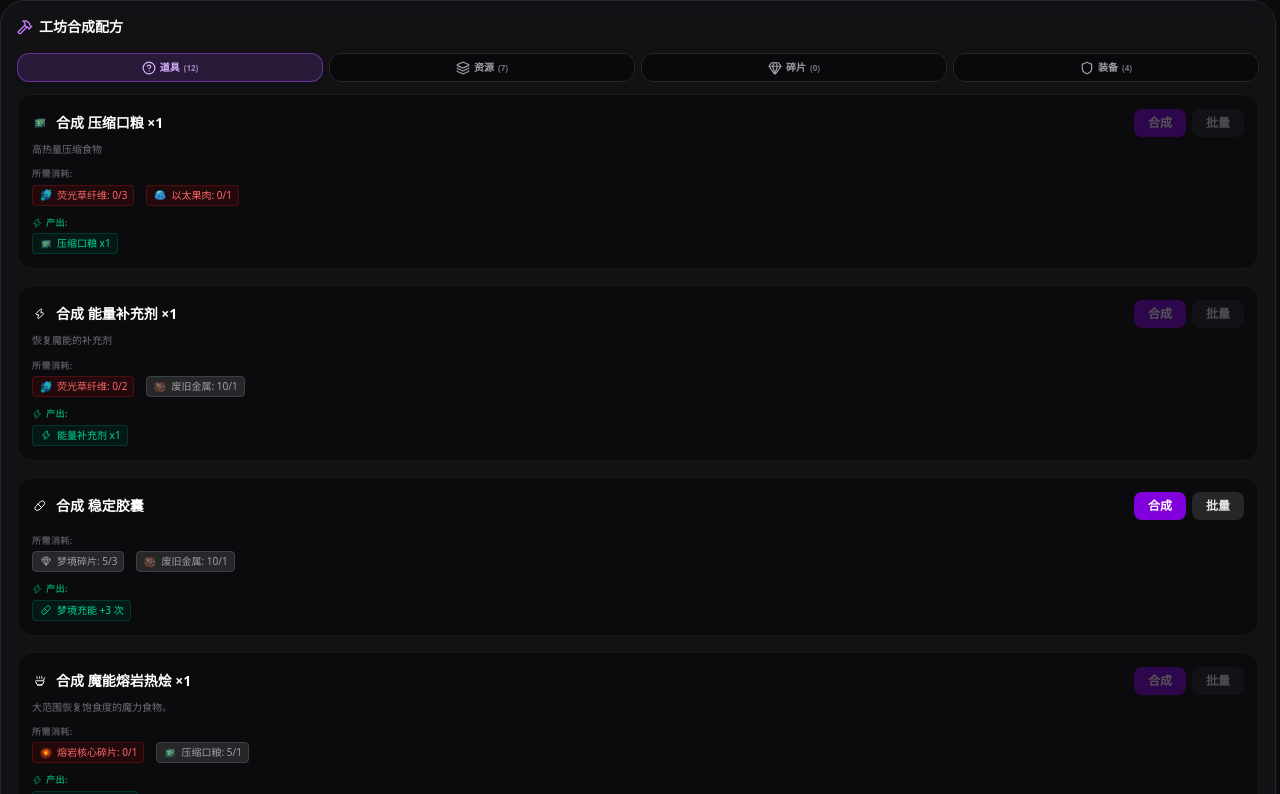
it: WorkshopTab Component › renders 4 category tabs and shows empty state for the shard category (ticket 03)
Expected: the button "道具 (12)" is shown, [17, 53, 323, 82]
Expected: the button "资源 (7)" is shown, [329, 53, 635, 82]
// 碎片分类在工坊无产出配方 → 空态
Click the button "碎片 (0)" at (794, 68), box [641, 53, 947, 82]
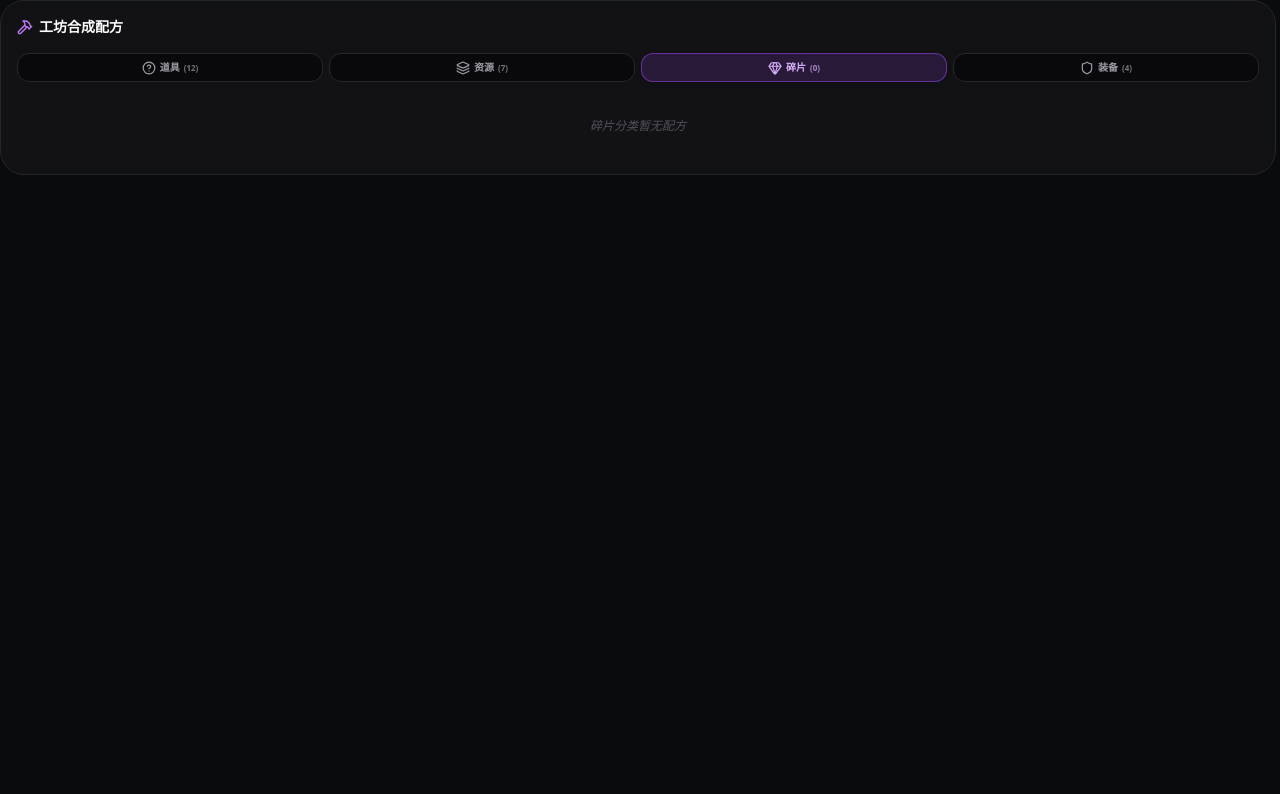
Now the text "碎片分类暂无配方" is shown, box [590, 117, 686, 134]
